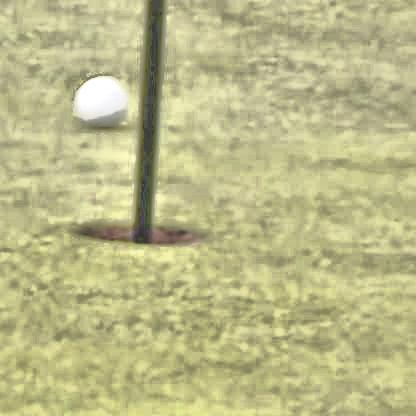golfball: (72, 73, 126, 124)
